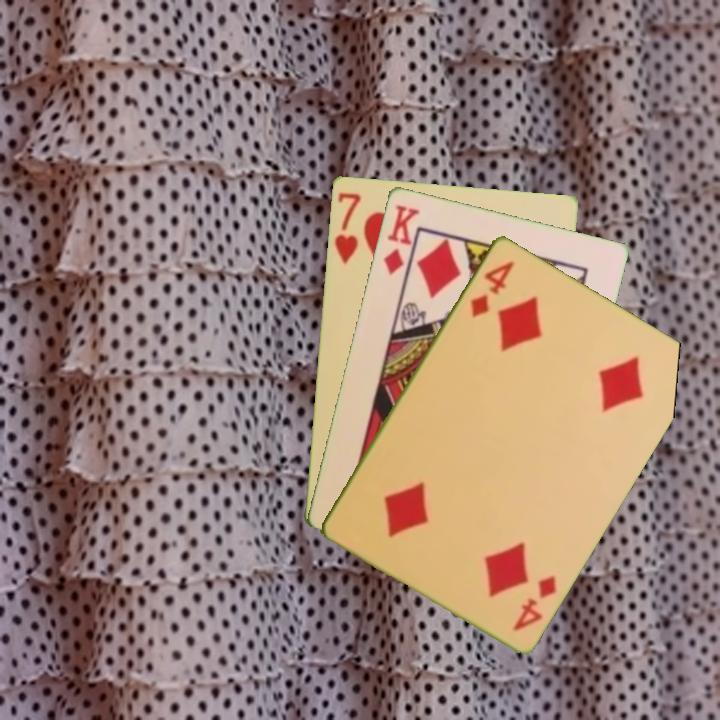4d: (466, 256, 517, 320), (509, 570, 559, 634)
7h: (330, 188, 363, 266)
Kd: (379, 200, 422, 277)
